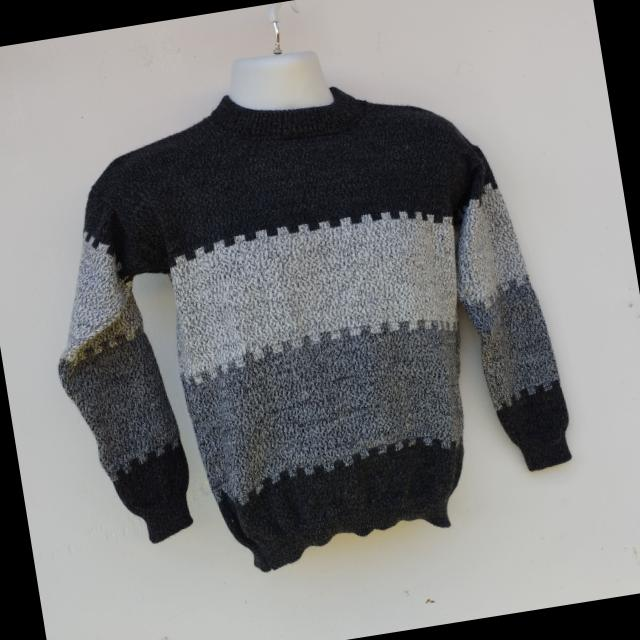Chompa: (18, 41, 586, 600)
